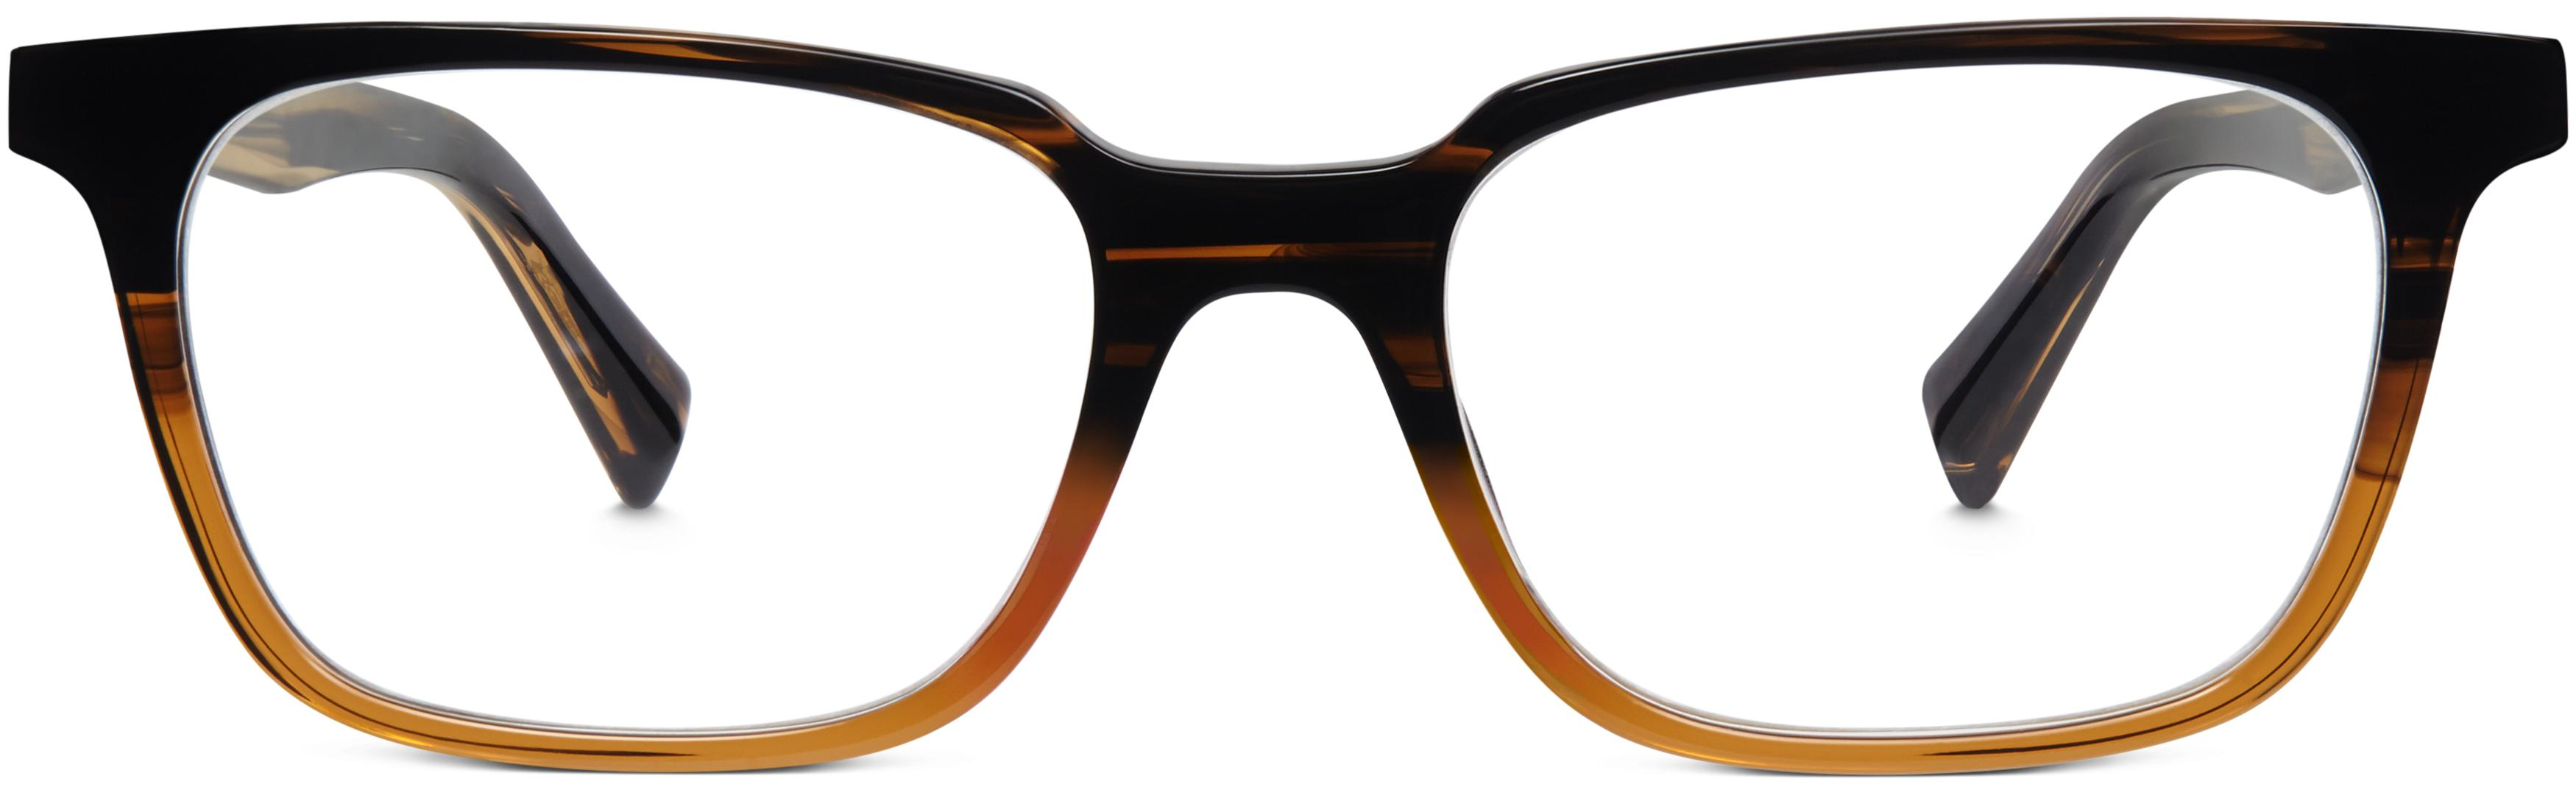sunglasses: (5, 13, 2566, 771)
